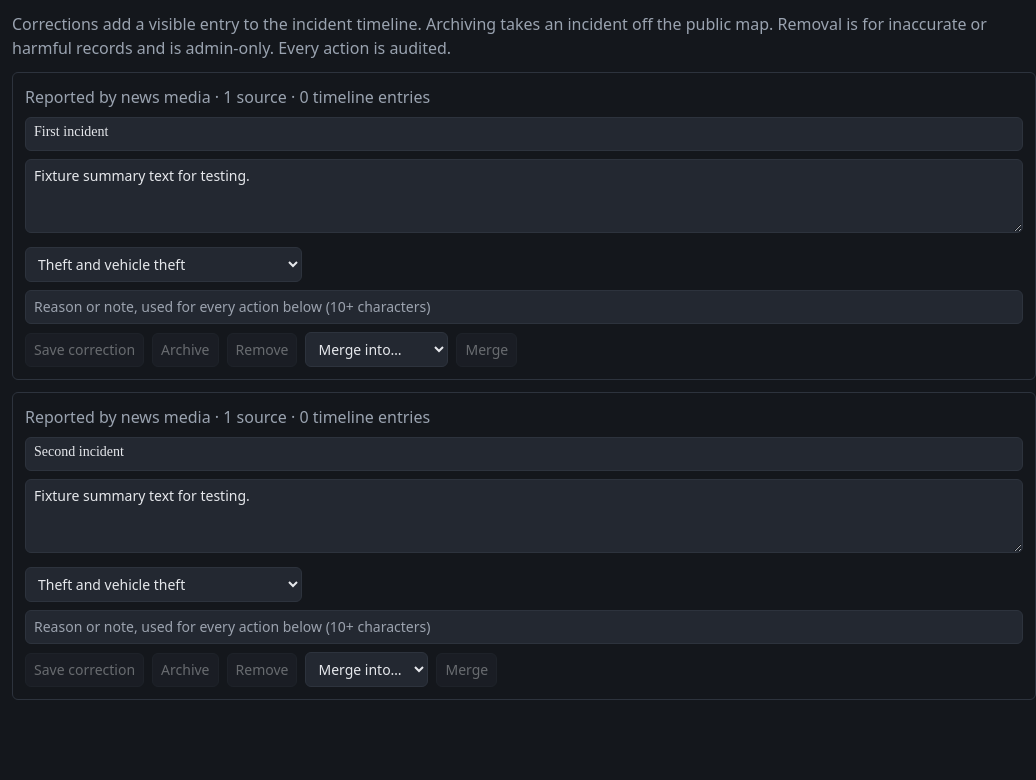
Test: PublishedManager › shows the server reason when an action is refused
Type "Outdated, superseded." into the field named "Reason for a1" at (524, 307), box [25, 290, 1023, 324]
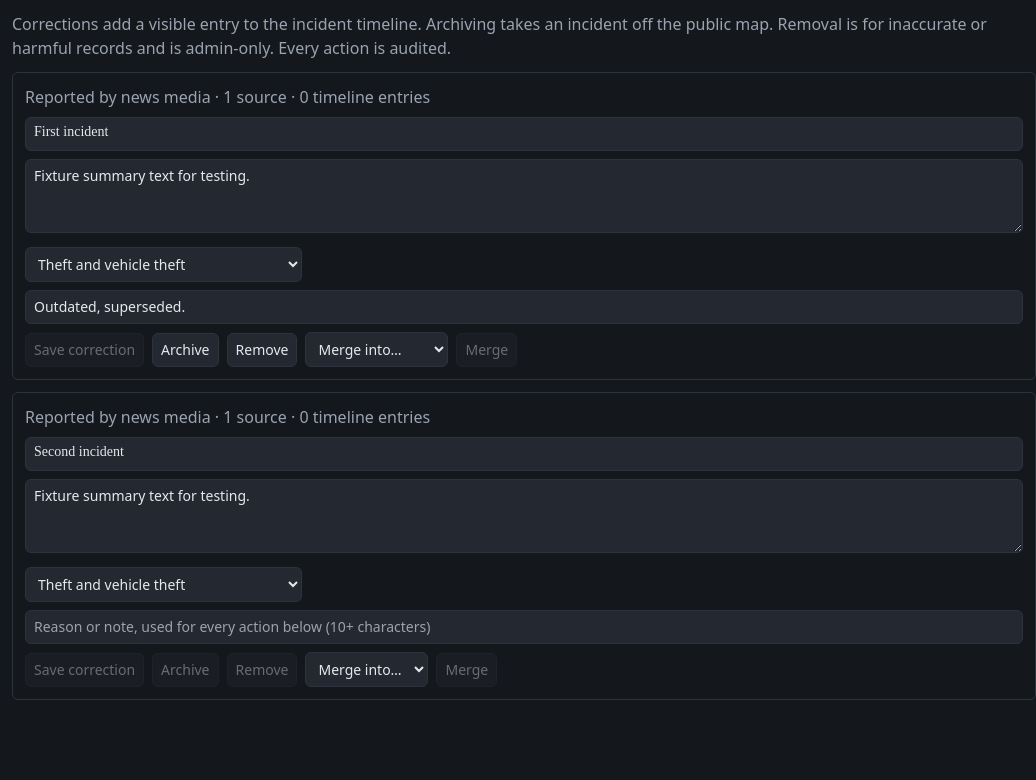
Click the 1st button "Archive" at (185, 350), box [152, 332, 219, 366]
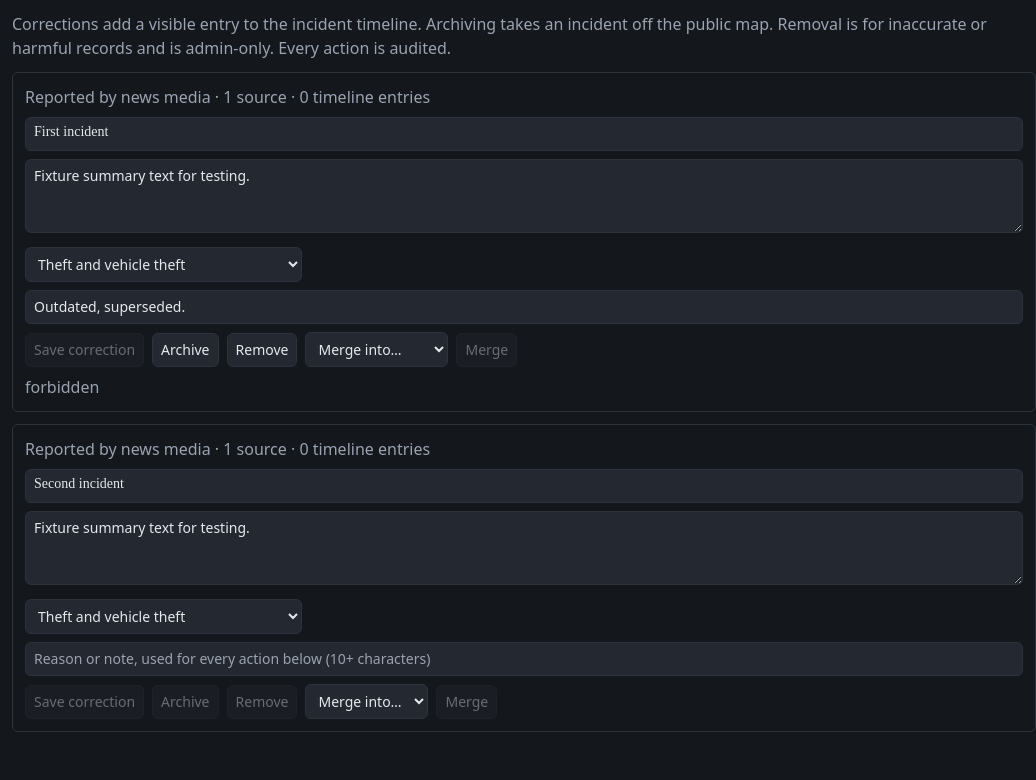
Expected: the text "forbidden" is shown, [25, 376, 99, 398]
